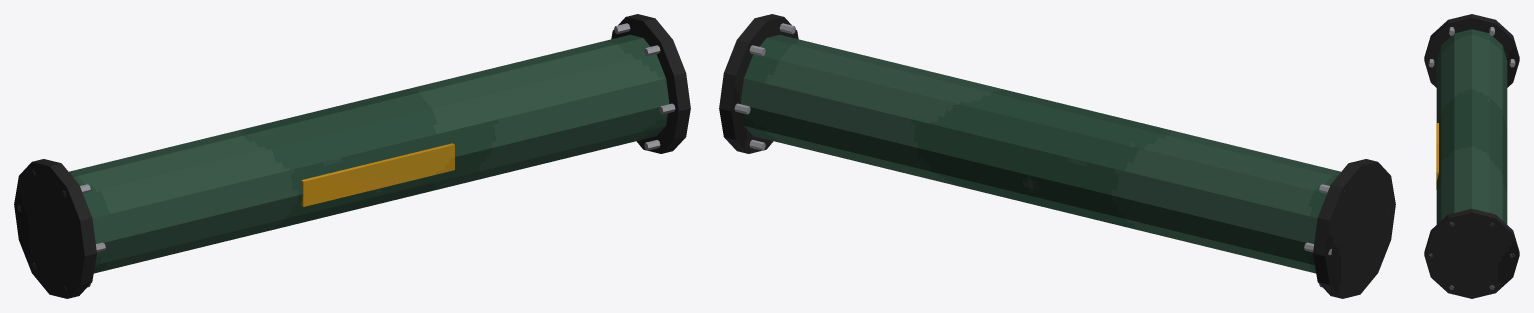
File: SM_Pipe_Straight_2m.glb
3 renders of one model, left to right at view 1: azimuth 30°, elevation 25°; view 2: azimuth 150°, elevation 25°; view 3: azimuth 270°, elevation 25°, orthographic. The views are drawn at different scales.
Visible parts, largest first — view 1: SM_Pipe_Straight_2m; view 2: SM_Pipe_Straight_2m; view 3: SM_Pipe_Straight_2m.
Part boxes in pixels (left/top/right/bottom): SM_Pipe_Straight_2m: left=14, top=14, right=690, bottom=298; SM_Pipe_Straight_2m: left=719, top=14, right=1395, bottom=298; SM_Pipe_Straight_2m: left=1424, top=14, right=1519, bottom=298.
Size of the model in its own units: 2 by 0.405 by 0.405.
Materials: 4 (4 with a texture image).
